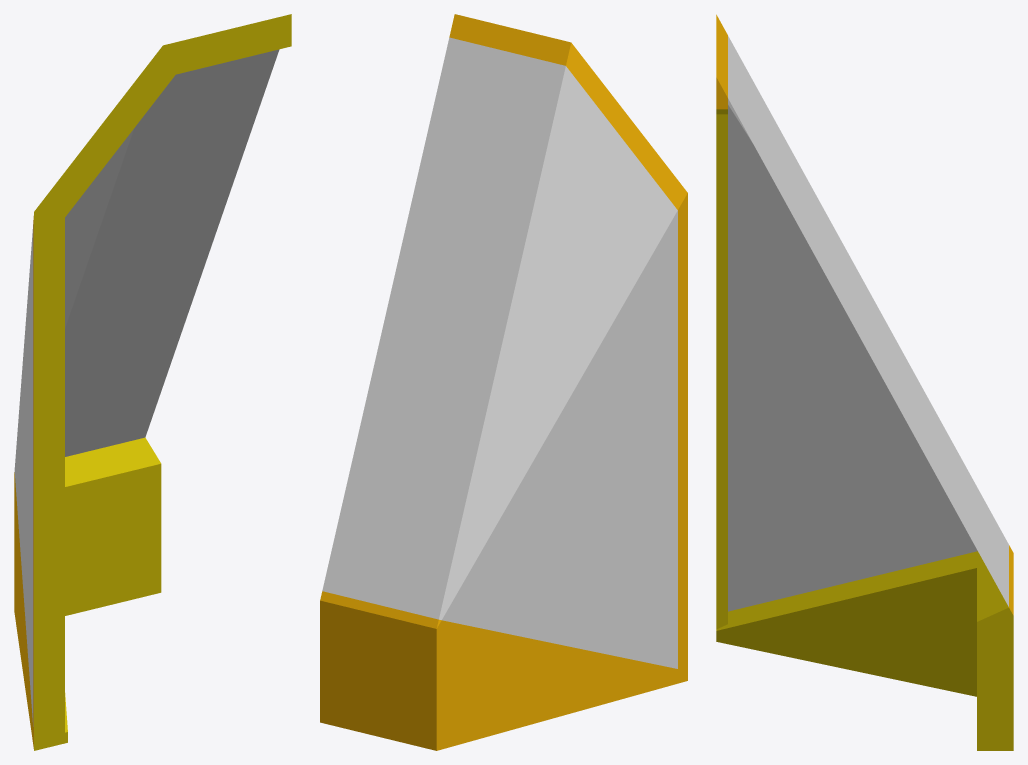
File: 709_window_front_side.dae
The picture shows the model from 3 angles, left to right: view 1: azimuth 30°, elevation 25°; view 2: azimuth 150°, elevation 25°; view 3: azimuth 270°, elevation 25°; orthographic projection. The views are drawn at different scales.
Parts seen in each view (by area): view 1: 立方体; view 2: 立方体; view 3: 立方体.
Part boxes in pixels (x1,y1,x2,y2): 立方体: (14, 14, 291, 750); 立方体: (320, 14, 687, 750); 立方体: (716, 14, 1013, 750).
Bounding box in the file's own units: 0.5 × 0.5 × 1.25.
